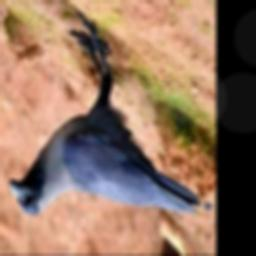Crow: (9, 11, 215, 217)
